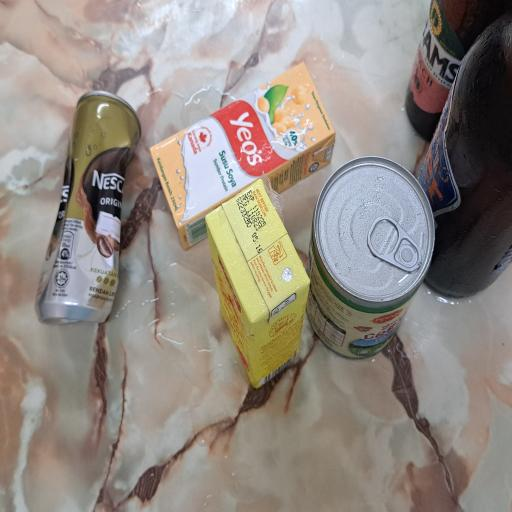can: (140, 46, 316, 190), (112, 404, 266, 512)
drink carton: (196, 197, 339, 451), (90, 272, 251, 414)
pop tab: (180, 488, 220, 512)
